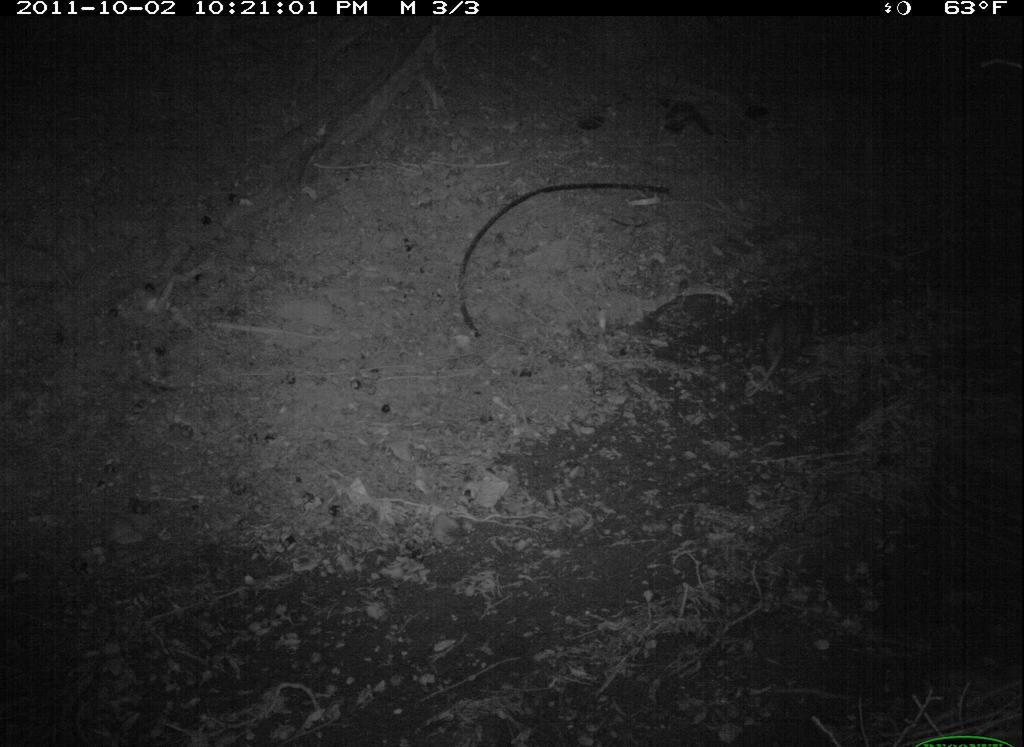opossum: (737, 287, 824, 418)
